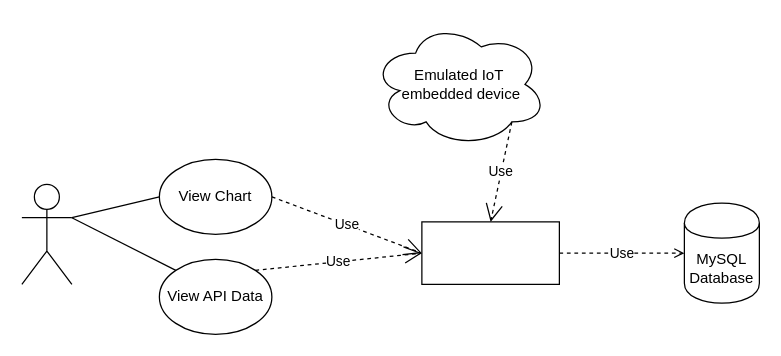
Some shapes in this 781 by 356 pixel diagram are drawn without their labels. The centre of each missing label's shape, as x and y in pixels:
"Java Server" belongs at point (490, 252).
"User" belongs at point (46, 233).
